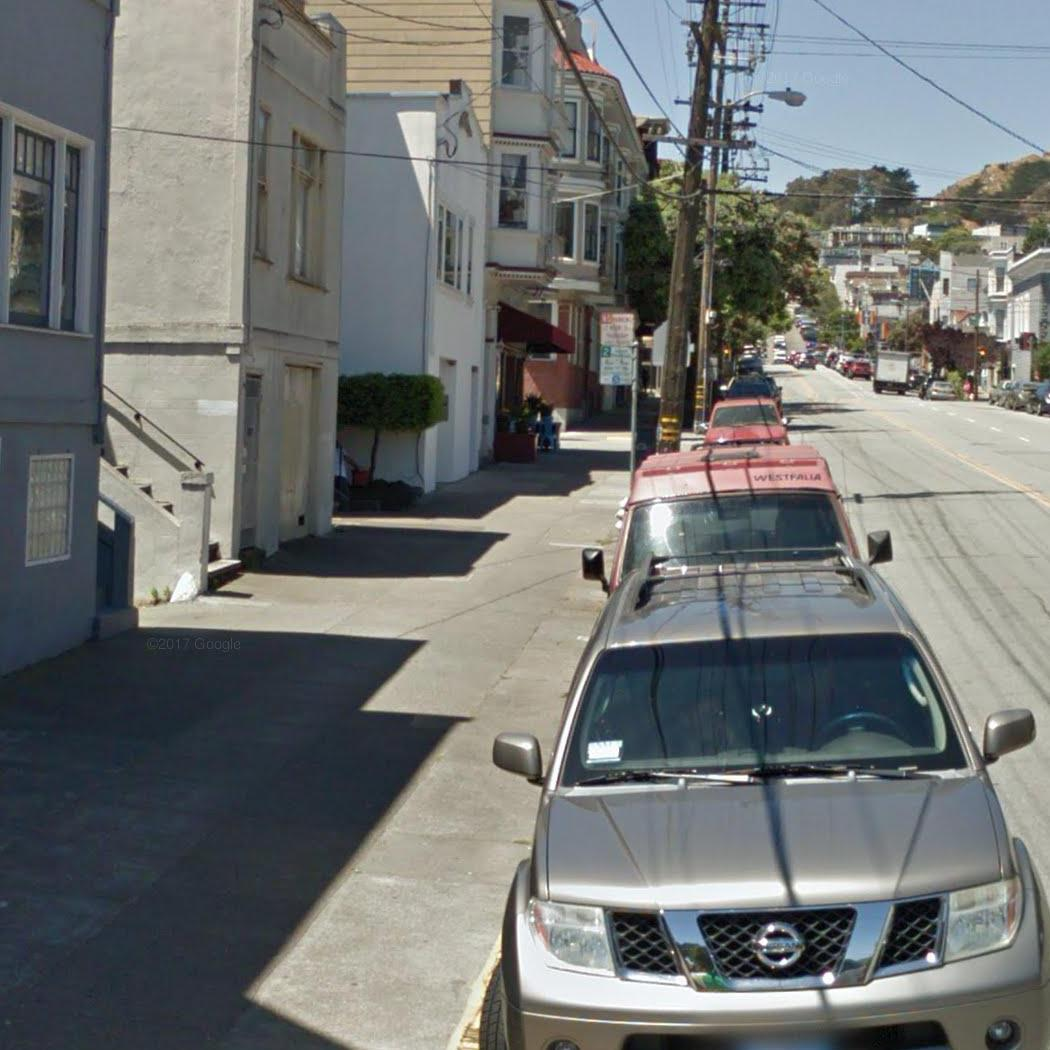2 Hour Parking: (596, 347, 636, 388)
No Parking: (597, 310, 636, 347)
